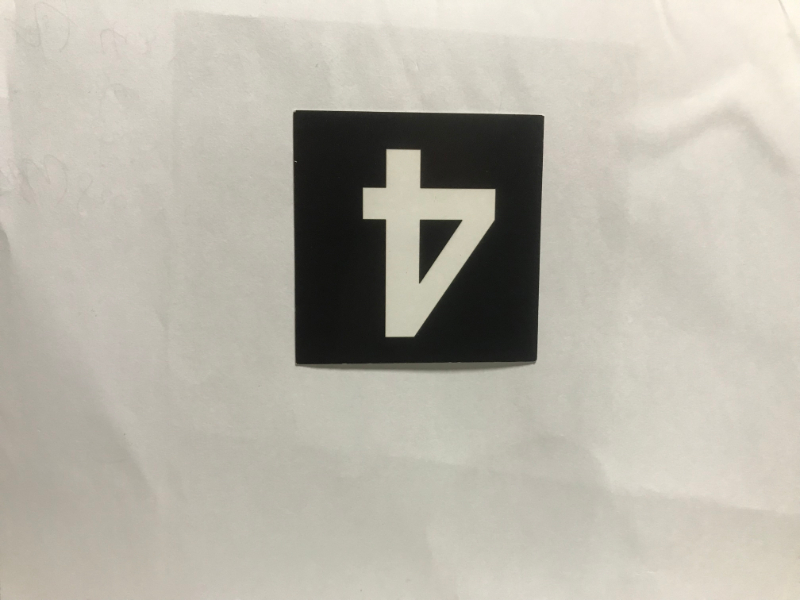Four-9: (299, 118, 534, 358)
